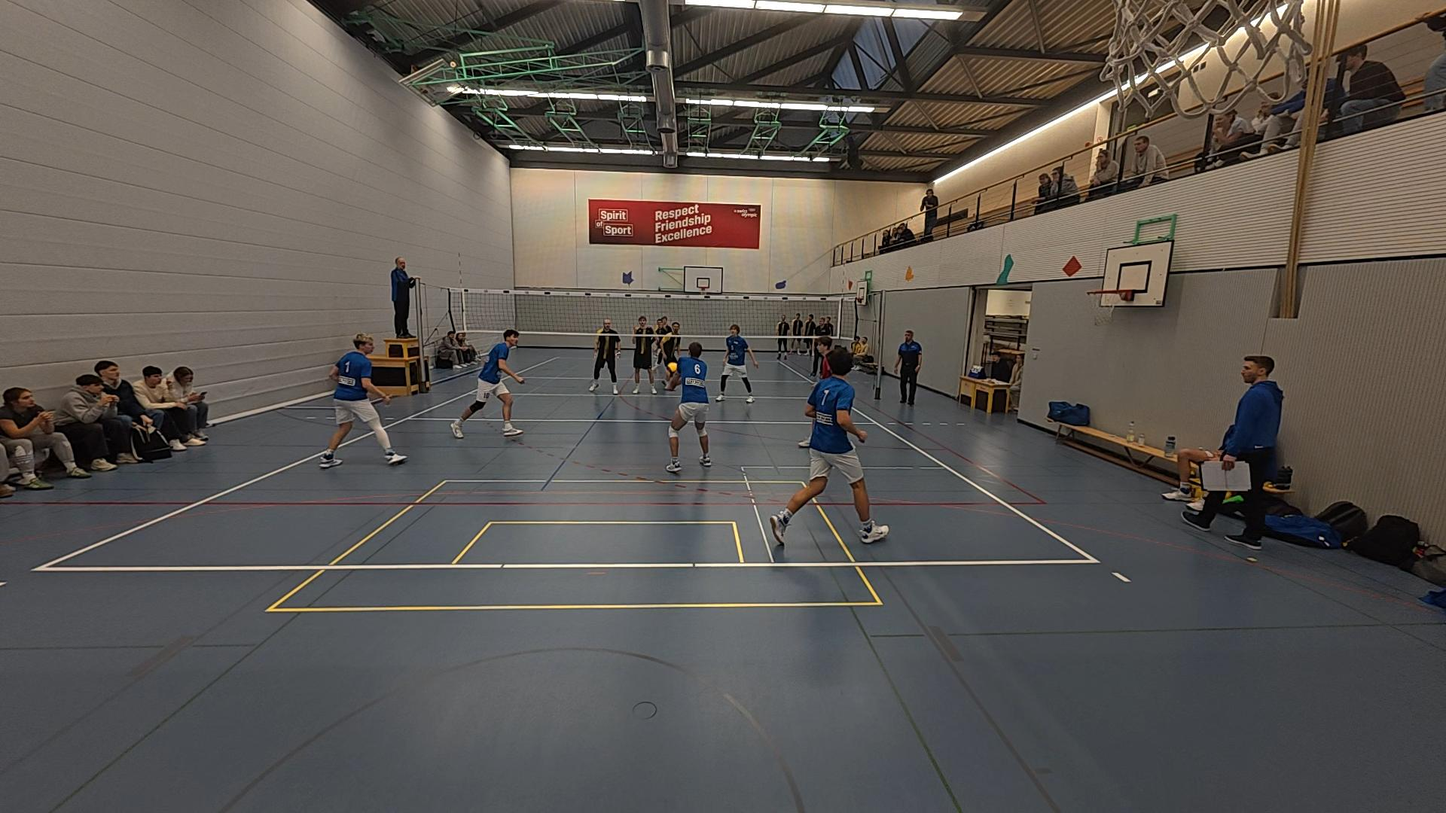Player: (767, 359, 889, 545), (321, 333, 404, 468), (453, 328, 524, 439), (795, 336, 834, 448), (715, 324, 754, 404), (587, 317, 623, 394), (631, 315, 659, 395), (655, 318, 681, 393), (651, 317, 670, 382)
Receive: (667, 342, 712, 473)
ball: (901, 264, 916, 281), (664, 360, 679, 376)
